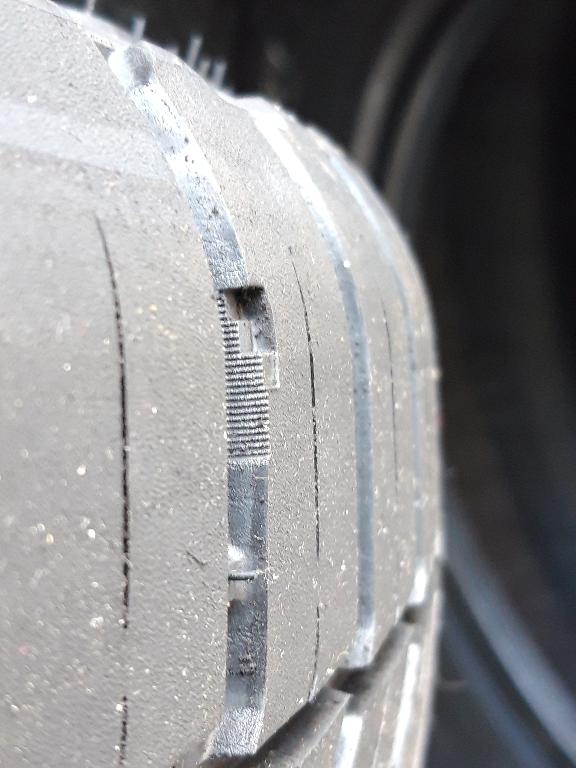temoin:50: (209, 278, 290, 401)
